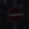No entry: (6, 5, 24, 24)
